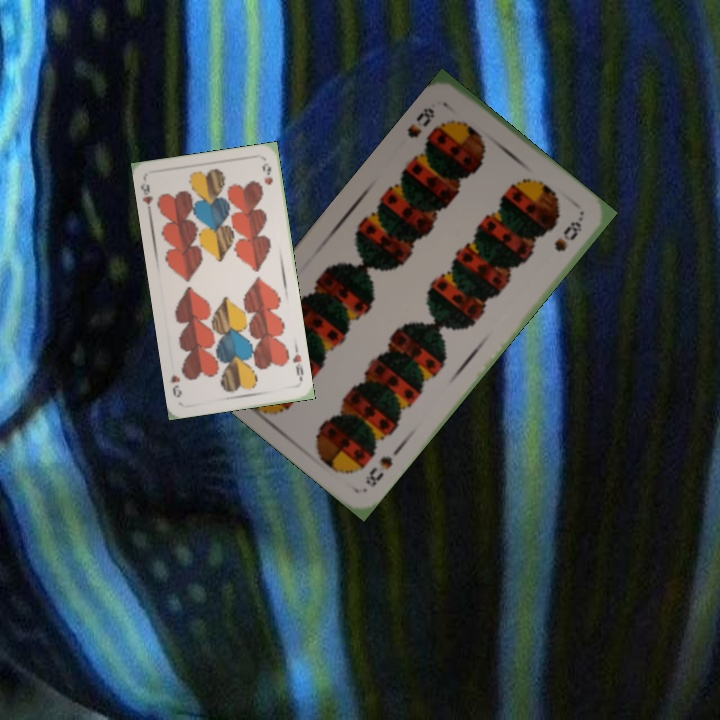H9: (137, 179, 156, 216), (289, 344, 306, 384)
S8: (403, 103, 438, 141), (361, 452, 396, 490)
